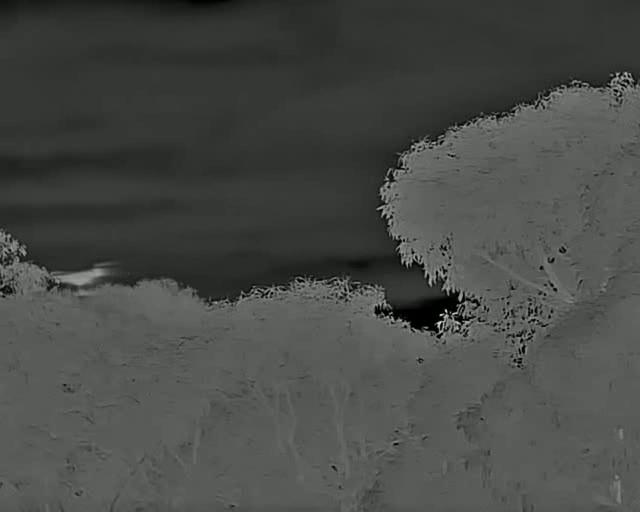DJI-Phantom: (50, 266, 122, 291)
